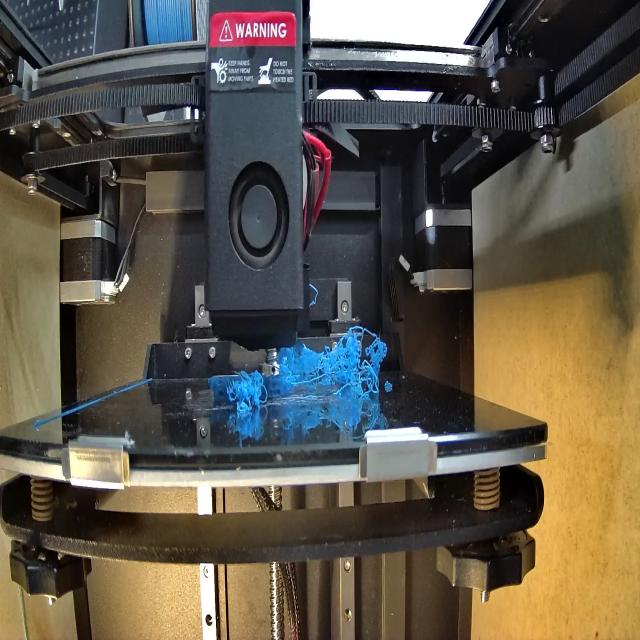spaghetti: (280, 341, 385, 401), (222, 369, 272, 423)
